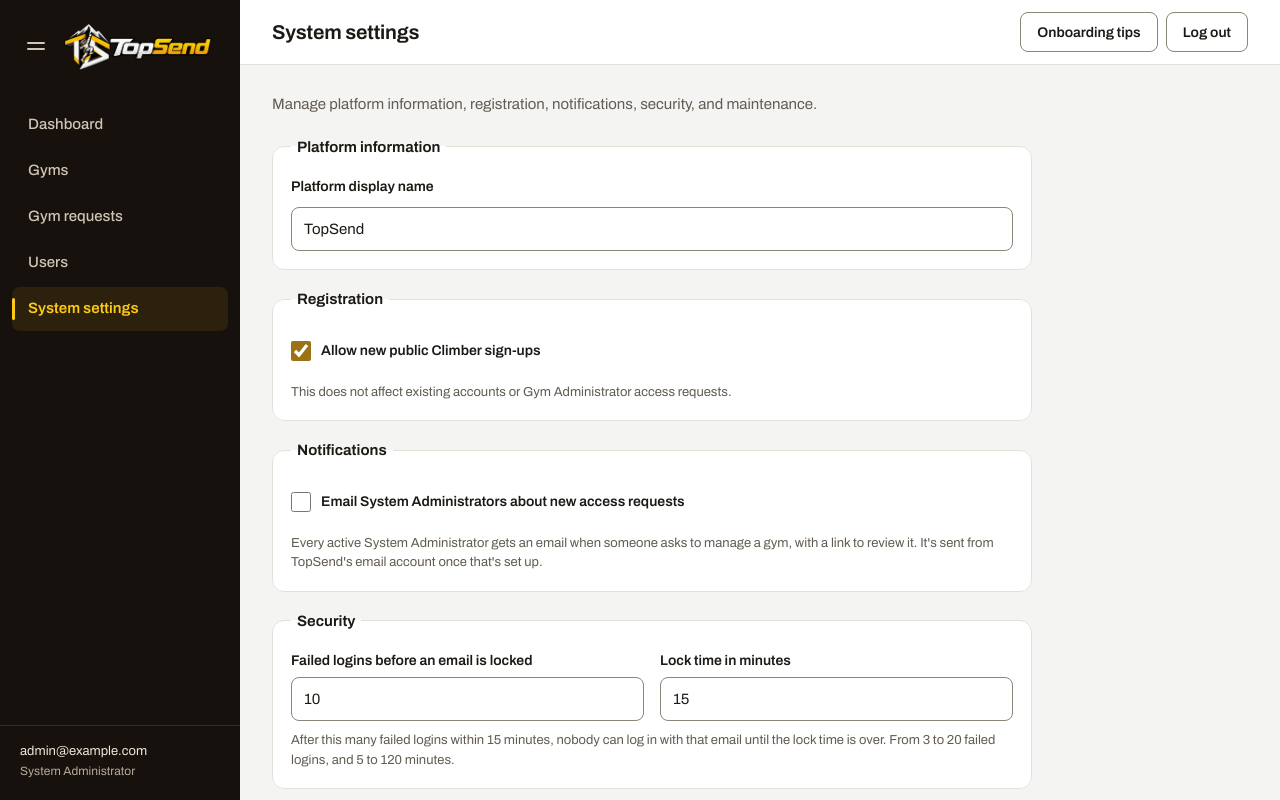
Test: US-010 system settings › doesn't reload over changes that aren't saved, and reloads once they're discarded
Replace the text in the field labelled "Platform display name" with "Other": (652, 229) x1=291 y1=207 x2=1013 y2=251
(page scrolled)
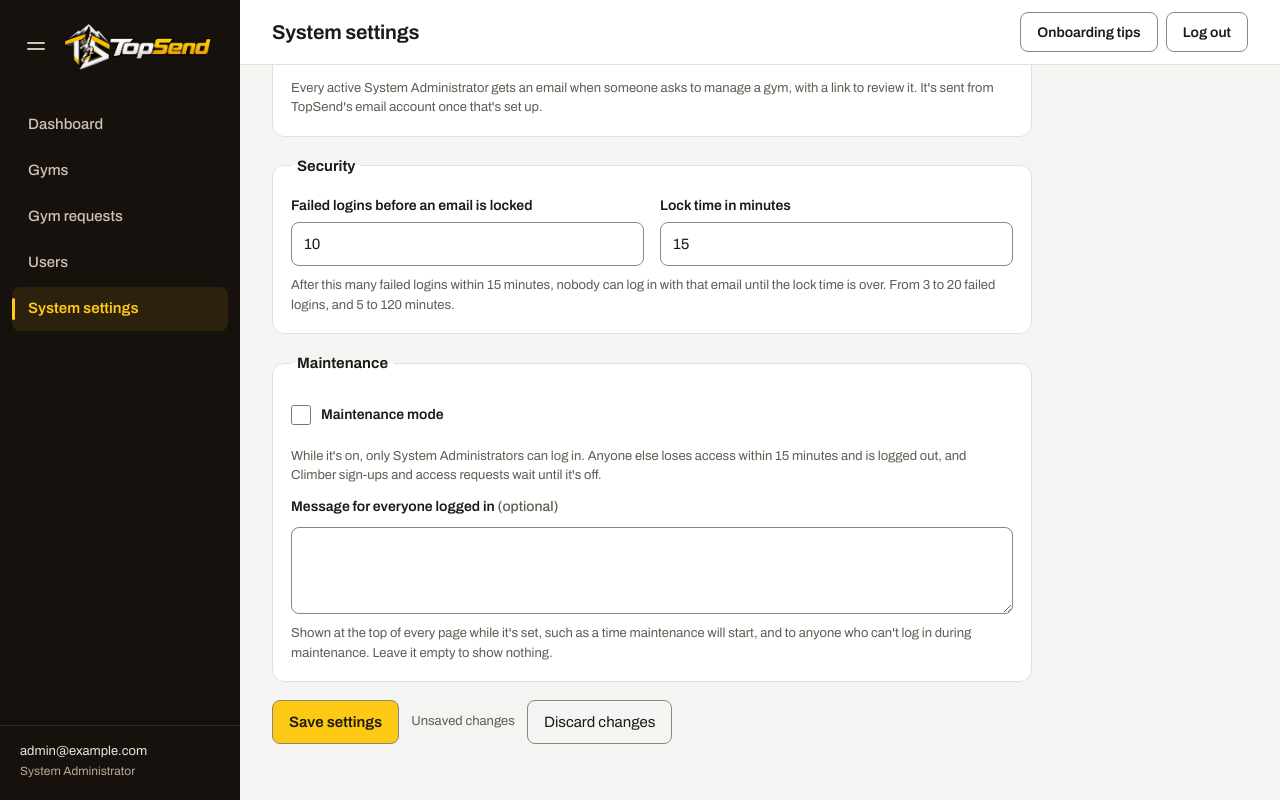
Click the button "Discard changes": click(600, 722) x1=527 y1=700 x2=672 y2=744
(page scrolled)
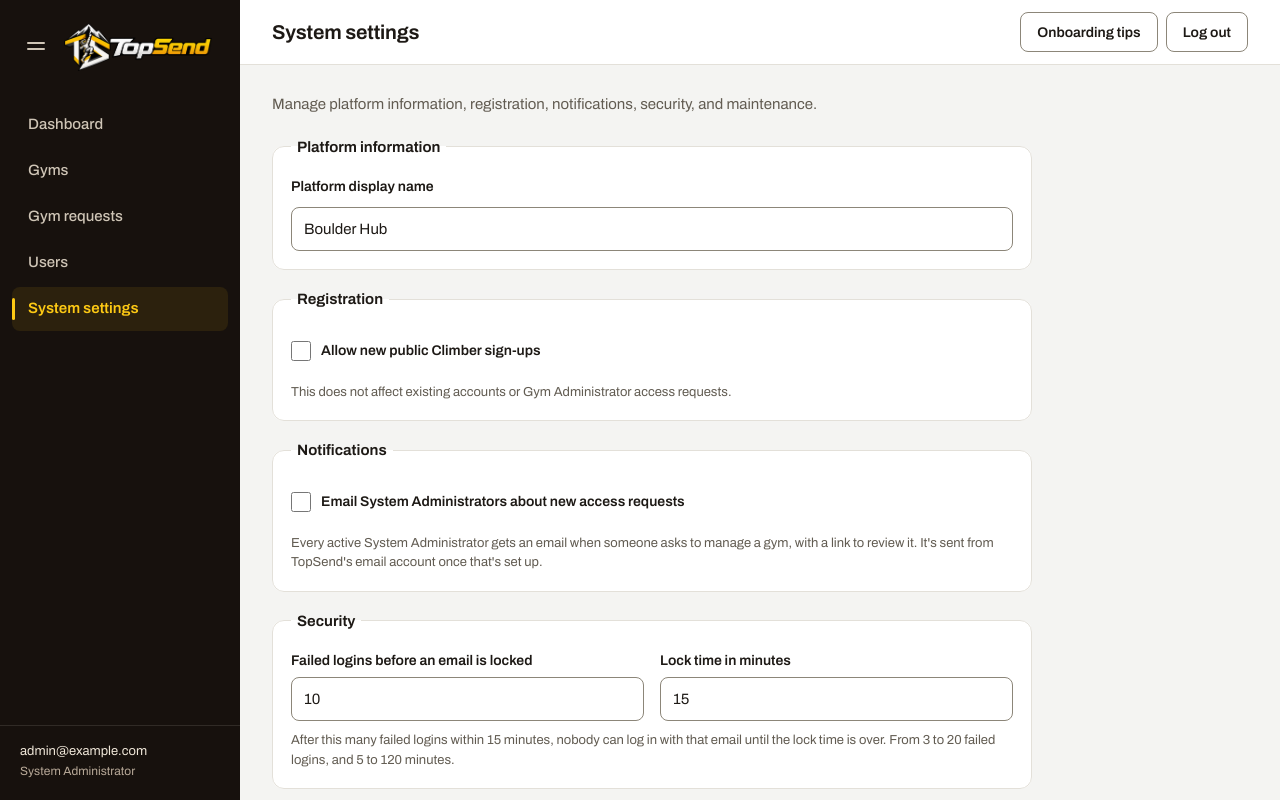
Expected: the field labelled "Platform display name" holds "Boulder Hub", x1=291 y1=207 x2=1013 y2=251
